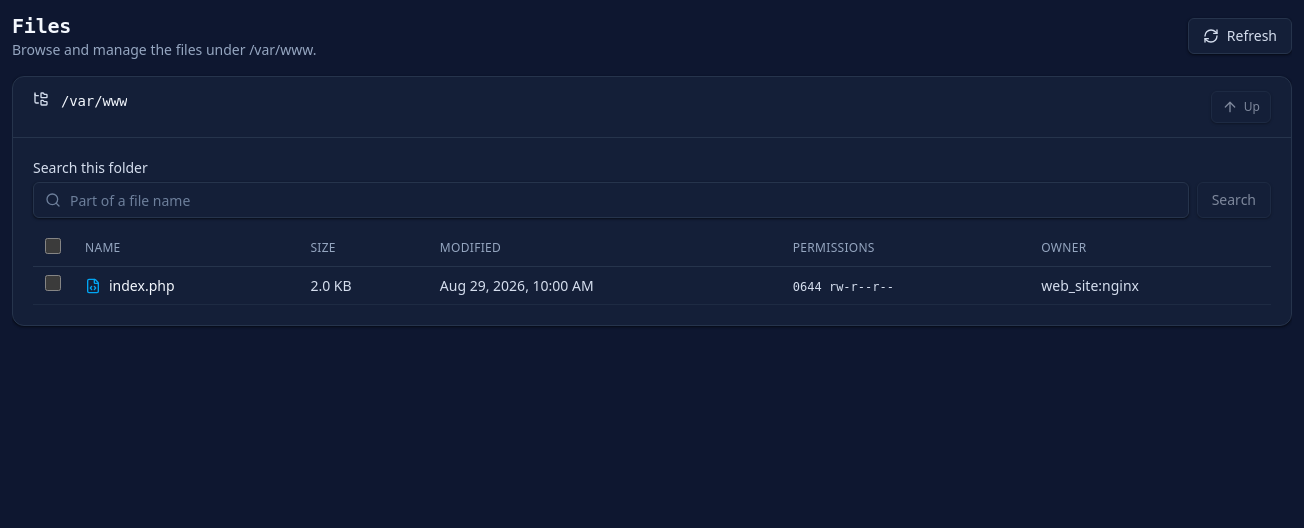
Test: FilesPage file actions › disables the changing actions without file.write
Click the button "index.php" at (142, 286), box [109,276,174,296]
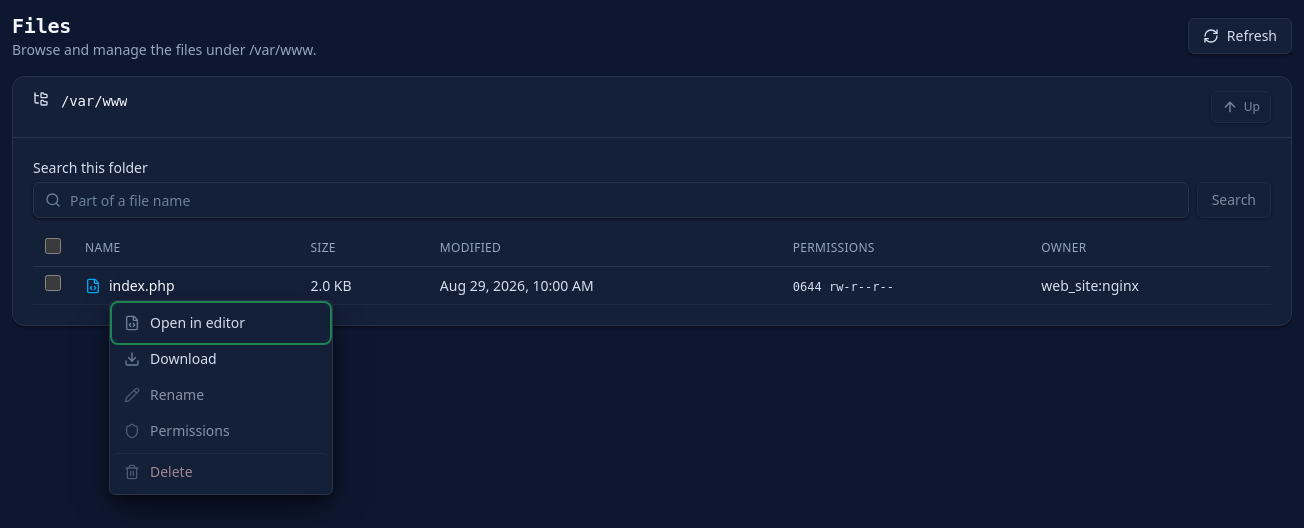
Expected: the menu item "Download" is enabled, [114,340,328,376]
Expected: the menu item "Open in editor" is enabled, [114,304,328,340]
Expected: the menu item "Rename" is disabled, [114,376,328,412]
